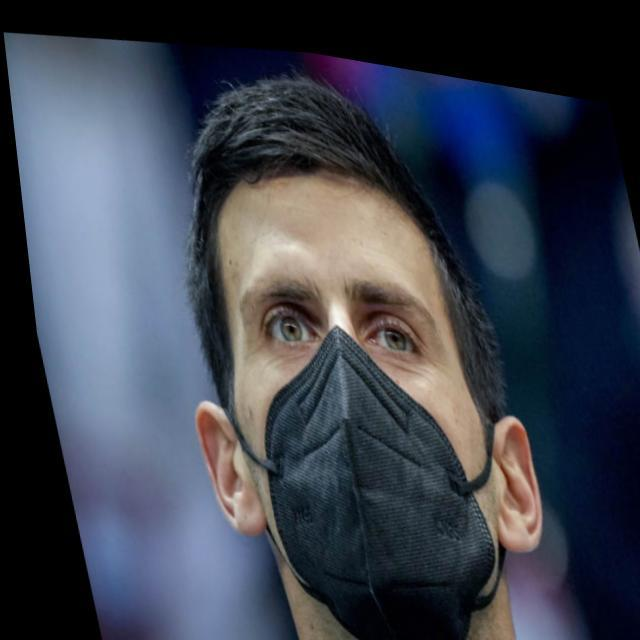Nonhelmet: (179, 70, 549, 636)
